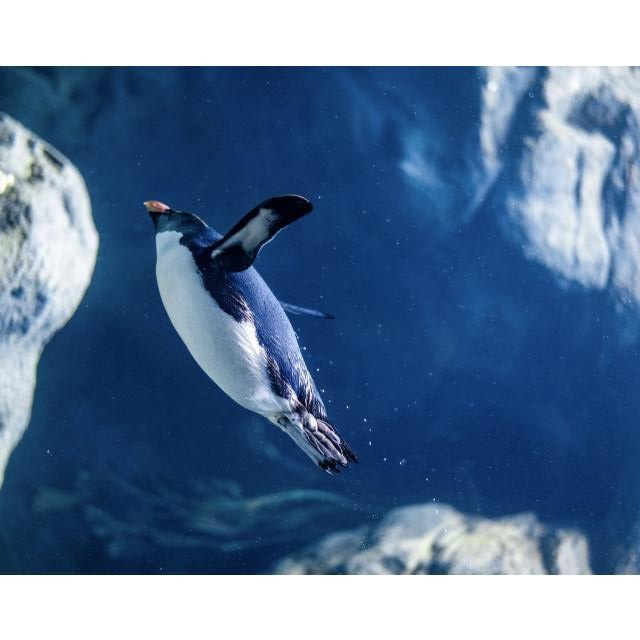penguin: (141, 193, 360, 473)
